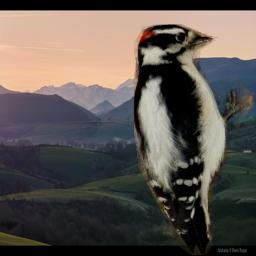Woodpecker: (134, 24, 254, 255)
